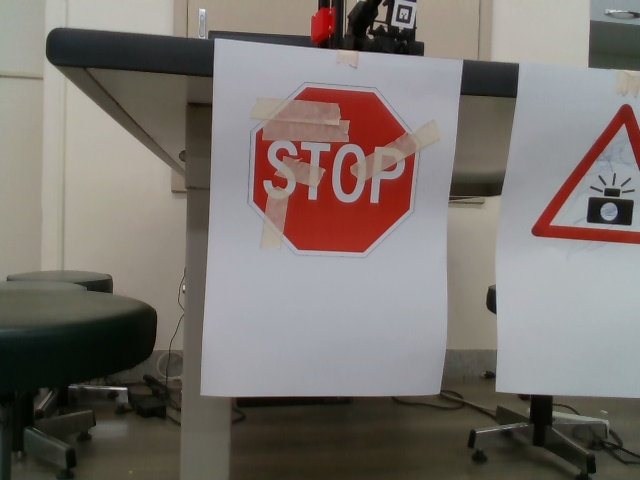camera: (534, 102, 640, 253)
stop: (242, 80, 427, 261)
